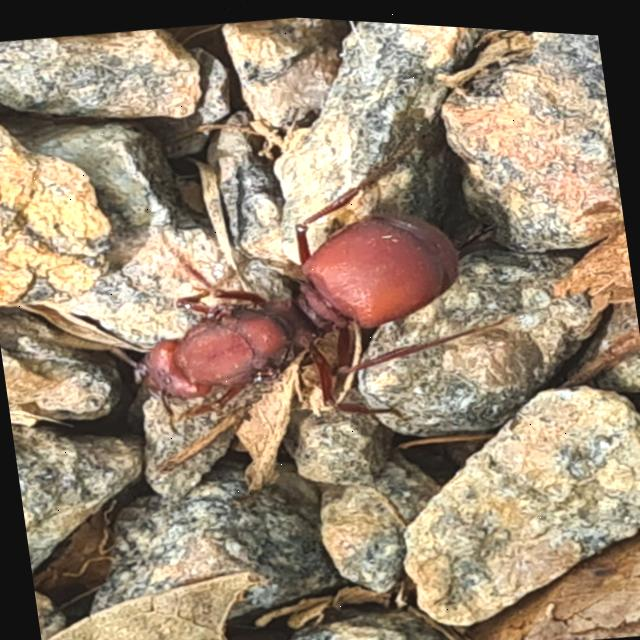Alive-Female-Dealate: (28, 84, 532, 474)
